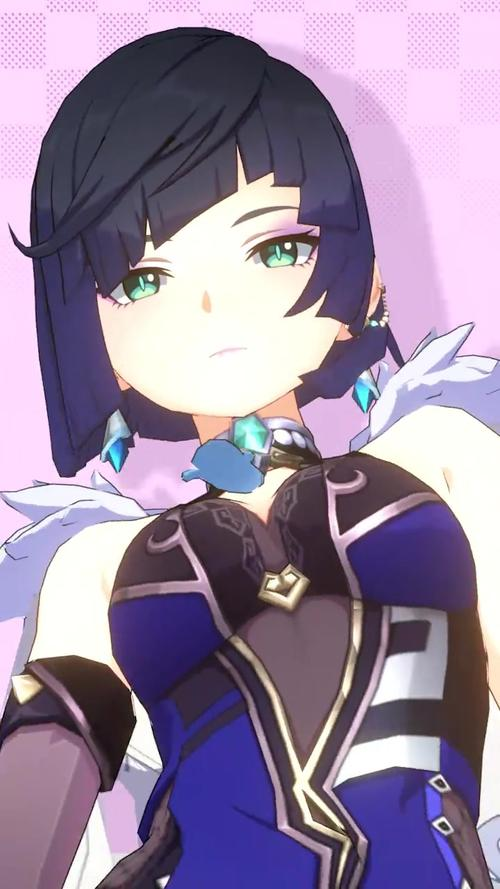夜兰: (2, 17, 500, 889)
